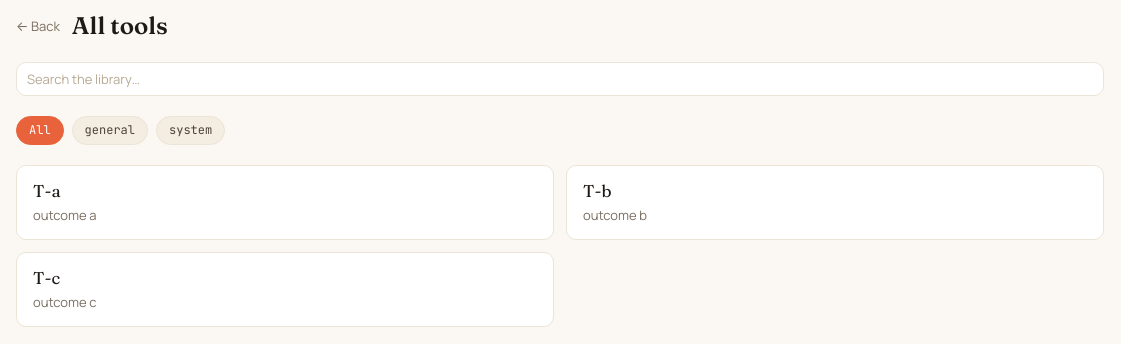
Test: LibraryAllPage › filters by category chip
Click the button "general" at (110, 130), box [72,116,148,145]
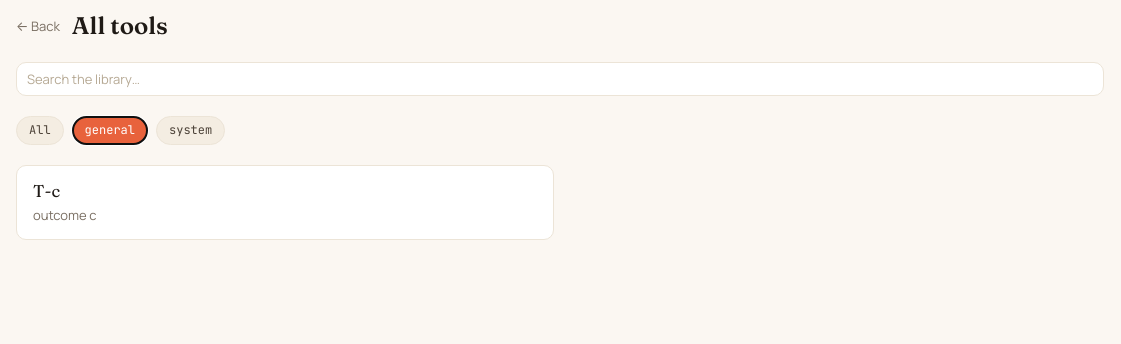
Expected: the text "T-c" is shown, [33,180,60,201]
Result: the button "T-a" is gone
